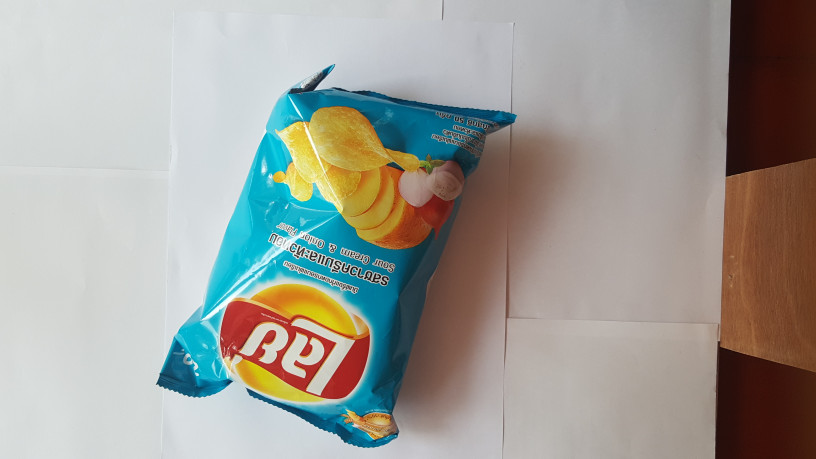lays-onion: (126, 59, 517, 452)
